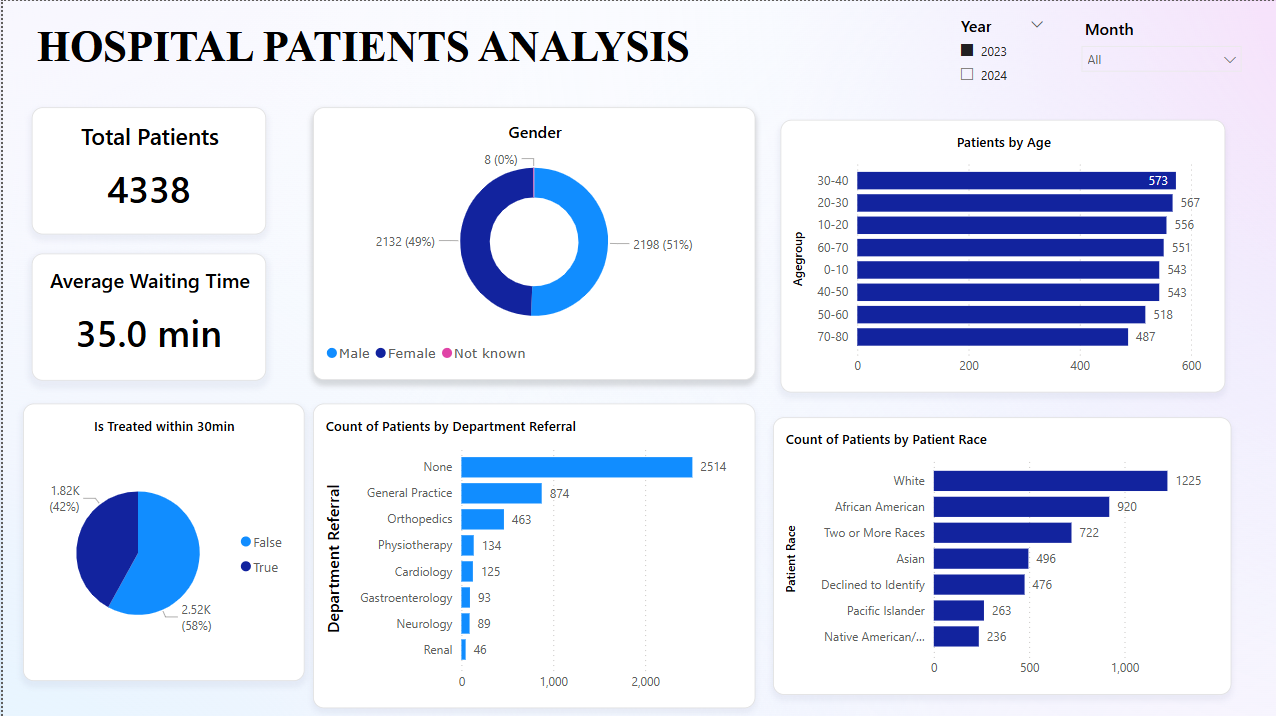

The dashboard page shown, as its layout file describes it:
{"tool":"powerbi","page":{"name":"Page 1","canvas":[1280,720],"ordinal":0},"visuals":[{"type":"card","title":"Total Patients","fields":{"Values":["Count(Hospital ER_Data.Patient Id)"]},"box":[29.3,106.4,234.8,127.2],"z":0},{"type":"pieChart","title":"Is Treated within 30min","fields":{"Category":["Hospital ER_Data.Treated Faster"],"Y":["CountNonNull(Hospital ER_Data.Treated Faster)"]},"box":[19.6,402.3,281.3,277.6],"z":1000},{"type":"donutChart","title":"Gender","fields":{"Y":["CountNonNull(Hospital ER_Data.Patient Gender)"],"Category":["Hospital ER_Data.Gender"]},"box":[310.6,106.4,442.7,272.7],"z":3000},{"type":"slicer","fields":{"Values":["Hospital ER_Data.Patient Admission Date.Variation.Date Hierarchy.Year"]},"box":[950,14,98,82],"z":4000},{"type":"slicer","fields":{"Values":["Hospital ER_Data.Patient Admission Date.Variation.Date Hierarchy.Month"]},"box":[989.3,168.8,217.7,64.8],"z":5000},{"type":"barChart","fields":{"Category":["Hospital ER_Data.Department Referral"],"Y":["Count(Hospital ER_Data.Patient Id)"]},"box":[310.6,402.3,442.7,304.5],"z":6000},{"type":"clusteredBarChart","fields":{"Category":["Hospital ER_Data.Patient Race"],"Y":["CountNonNull(Hospital ER_Data.Patient Id)"]},"box":[770.4,415.8,458.6,277.6],"z":8000},{"type":"textbox","box":[29.3,15.9,682.3,79.5],"z":9000},{"type":"clusteredBarChart","title":"Patients by Age","fields":{"Category":["Hospital ER_Data.Agegroup"],"Y":["CountNonNull(Hospital ER_Data.Patient Id)"]},"box":[777.7,118.6,445.1,272.7],"z":10000},{"type":"slicer","fields":{"Values":["Hospital ER_Data.Patient Admission Date.Variation.Date Hierarchy.Month"]},"box":[1074,16,170,80],"z":10001},{"type":"card","title":"Average Waiting Time","fields":{"Values":["Hospital ER_Data.Measure"]},"box":[29.3,251.9,234.8,127.2],"z":10002}]}

Visuals, with their boxes in screenshot pixels (x1, y1, x2, y2), scaled from the page's 1280x720 canvas onto the 1276x716 screenshot:
"Total Patients" card: box=[29, 106, 263, 232]
"Is Treated within 30min" pieChart: box=[20, 400, 300, 676]
"Gender" donutChart: box=[310, 106, 751, 377]
slicer - Hospital ER_Data.Patient Admission Date.Variation.Date Hierarchy.Year: box=[947, 14, 1045, 95]
slicer - Hospital ER_Data.Patient Admission Date.Variation.Date Hierarchy.Month: box=[986, 168, 1203, 232]
barChart - Hospital ER_Data.Department Referral x Count(Hospital ER_Data.Patient Id): box=[310, 400, 751, 703]
clusteredBarChart - Hospital ER_Data.Patient Race x CountNonNull(Hospital ER_Data.Patient Id): box=[768, 413, 1225, 690]
textbox: box=[29, 16, 709, 95]
"Patients by Age" clusteredBarChart: box=[775, 118, 1219, 389]
slicer - Hospital ER_Data.Patient Admission Date.Variation.Date Hierarchy.Month: box=[1071, 16, 1240, 95]
"Average Waiting Time" card: box=[29, 251, 263, 377]
